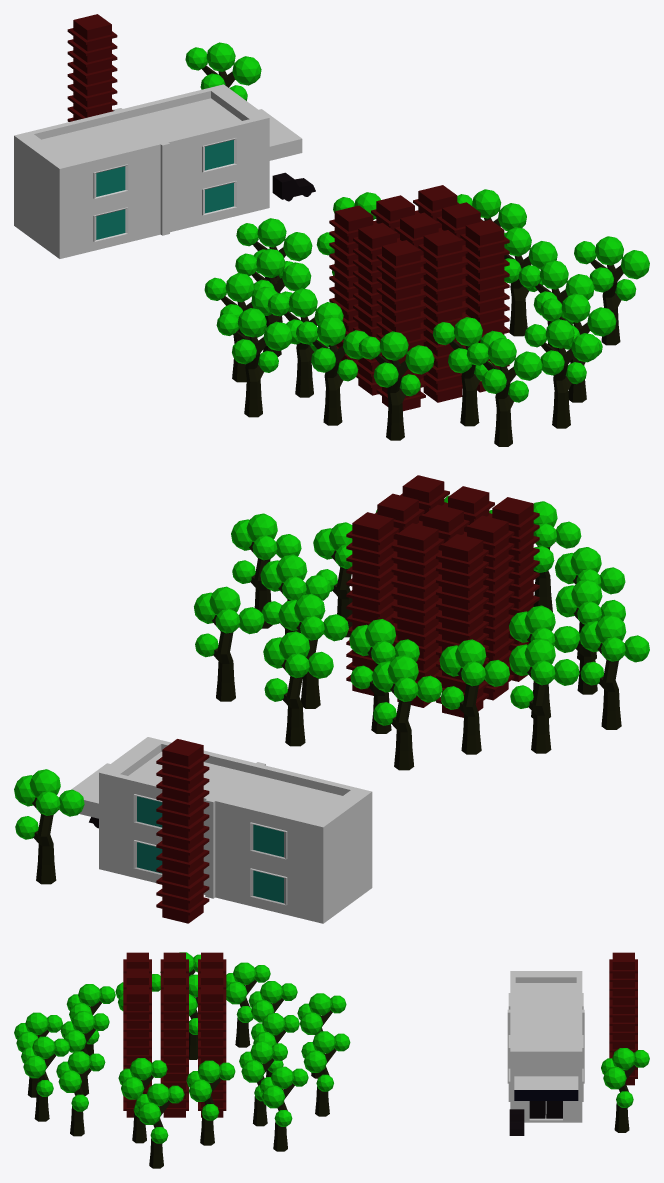
The model's file is 简单场景.obj.
3 views of the same model, one above another, from view 1: azimuth 30°, elevation 25°; view 2: azimuth 150°, elevation 25°; view 3: azimuth 270°, elevation 25° (orthographic). The views are drawn at different scales.
Parts seen in each view (by area): view 1: 立方体.002, 立方体.011, 立方体.010, 立方体.012, 立方体.004, 柱体.003, 柱体.008, 柱体.018, 柱体.017, 立方体.007, 柱体.004, 柱体.014 (+16 smaller); view 2: 立方体.002, 立方体.004, 立方体.005, 立方体.001, 立方体.006, 立方体.007, 柱体.001, 柱体.007, 柱体, 柱体.010, 柱体.008, 柱体.011 (+15 smaller); view 3: 立方体.002, 立方体.009, 立方体.004, 立方体.006, 立方体.012, 柱体.015, 柱体.017, 柱体.011, 柱体.012, 柱体.010, 柱体.014, 柱体 (+18 smaller).
Boxes of the visible parts, bbox=[...] form: 立方体.002: bbox=[14, 84, 302, 258]; 立方体.011: bbox=[418, 230, 467, 402]; 立方体.010: bbox=[376, 240, 425, 411]; 立方体.012: bbox=[460, 219, 509, 392]; 立方体.004: bbox=[67, 14, 117, 121]; 柱体.003: bbox=[358, 331, 434, 440]; 柱体.008: bbox=[216, 308, 292, 417]; 柱体.018: bbox=[466, 337, 542, 446]; 柱体.017: bbox=[524, 319, 600, 428]; 立方体.007: bbox=[353, 222, 398, 395]; 柱体.004: bbox=[296, 316, 368, 425]; 柱体.014: bbox=[574, 236, 649, 345]; 立方体.002: bbox=[71, 737, 372, 923]; 立方体.004: bbox=[156, 739, 209, 923]; 立方体.005: bbox=[391, 523, 444, 707]; 立方体.001: bbox=[436, 534, 488, 717]; 立方体.006: bbox=[346, 512, 399, 695]; 立方体.007: bbox=[464, 515, 514, 700]; 柱体.001: bbox=[439, 639, 509, 754]; 柱体.007: bbox=[509, 638, 579, 753]; 柱体: bbox=[14, 769, 84, 884]; 柱体.010: bbox=[263, 631, 333, 746]; 柱体.008: bbox=[579, 615, 649, 729]; 柱体.011: bbox=[194, 586, 264, 701]; 立方体.002: bbox=[507, 971, 584, 1122]; 立方体.009: bbox=[160, 985, 188, 1117]; 立方体.004: bbox=[609, 952, 637, 1085]; 立方体.006: bbox=[198, 985, 226, 1117]; 立方体.012: bbox=[123, 985, 151, 1117]; 柱体.015: bbox=[56, 1051, 105, 1136]; 柱体.017: bbox=[21, 1036, 69, 1121]; 柱体.011: bbox=[259, 1066, 308, 1151]; 柱体.012: bbox=[186, 1060, 235, 1145]; 柱体.010: bbox=[301, 1031, 350, 1116]; 柱体.014: bbox=[135, 1083, 184, 1168]; 柱体: bbox=[601, 1048, 649, 1132].
Size of what is drawn, in the model's own units: 48.95 by 18.52 by 85.49.
